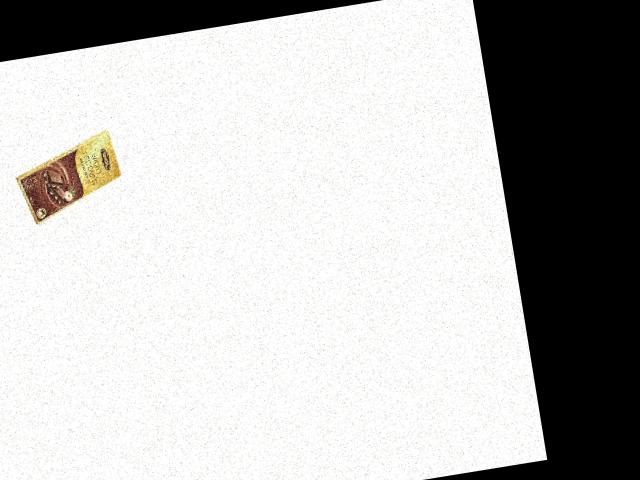chocolate: (0, 125, 127, 228)
